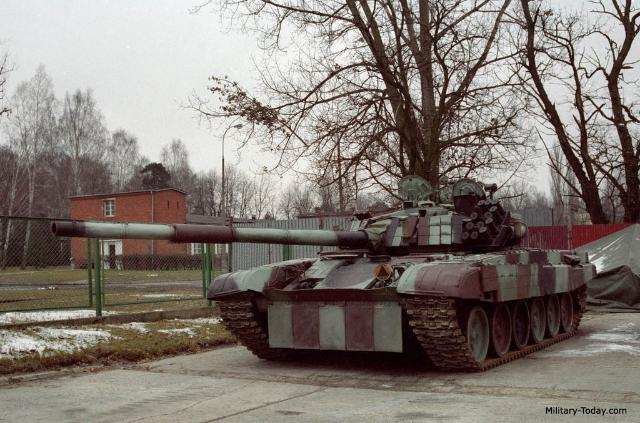tank: (205, 177, 599, 366)
